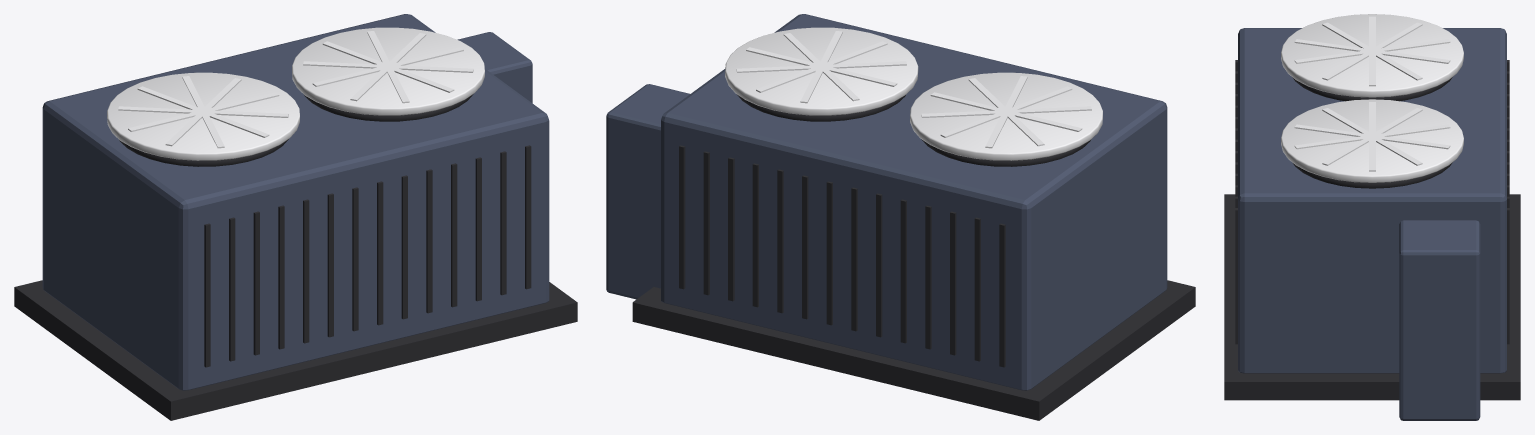
The model's file is SM_HVAC.fbx.
3 renders of one model, left to right at view 1: azimuth 30°, elevation 25°; view 2: azimuth 150°, elevation 25°; view 3: azimuth 270°, elevation 25°, orthographic. The views are drawn at different scales.
Parts seen in each view (by area): view 1: SM_HVAC; view 2: SM_HVAC; view 3: SM_HVAC.
Part boxes in pixels (x1,y1,x2,y2): SM_HVAC: [14, 14, 577, 420]; SM_HVAC: [606, 14, 1195, 420]; SM_HVAC: [1224, 14, 1520, 420].
Bounding box in the file's own units: 2.2 × 3.7 × 1.75.
